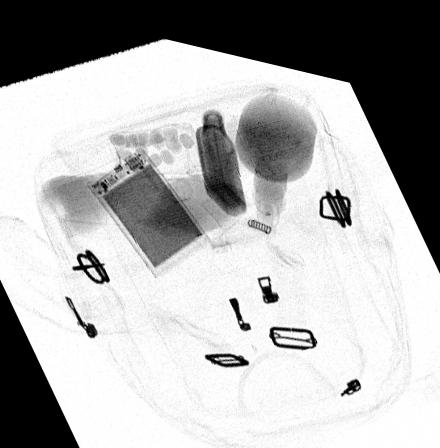Powerbank: (84, 140, 212, 270)
